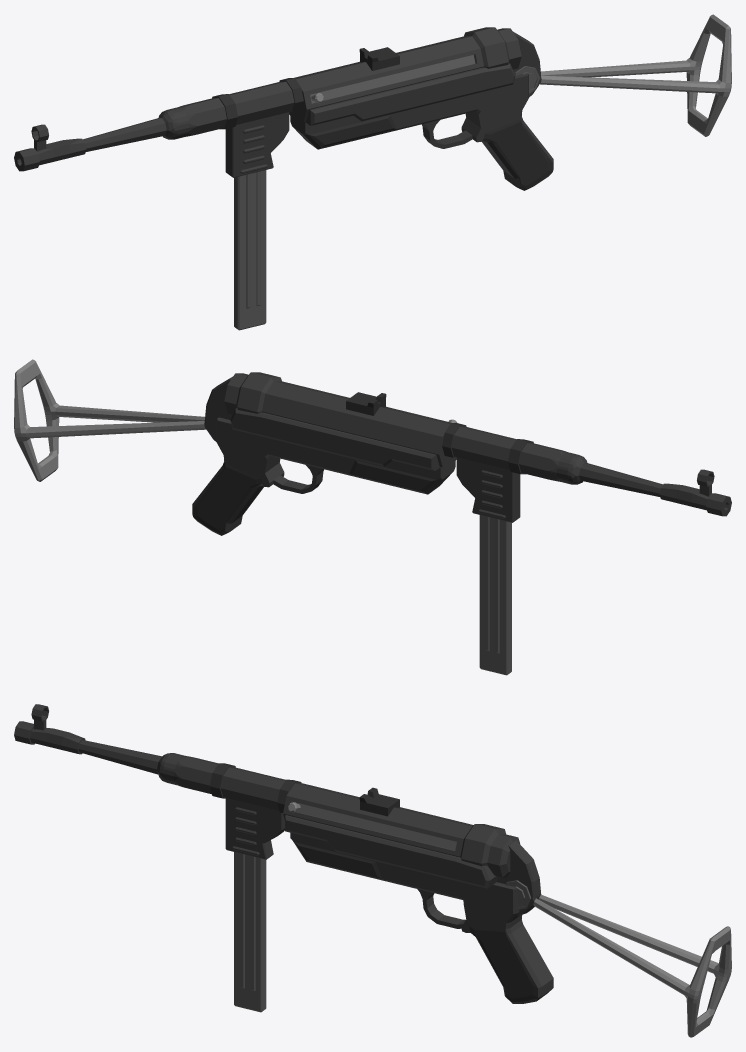
File: gun2.glb
3 views of the same model, one above another, from view 1: azimuth 30°, elevation 25°; view 2: azimuth 150°, elevation 25°; view 3: azimuth 330°, elevation 25° (orthographic).
Parts seen in each view (by area): view 1: mp40; view 2: mp40; view 3: mp40.
Boxes of the visible parts, box(x1,y1,x2,y2) form: mp40: box(14, 14, 731, 330); mp40: box(14, 359, 731, 675); mp40: box(14, 704, 731, 1037).
Size of the model in its own units: 51.56 by 17.6 by 4.6.
1 material, 1 textured.
